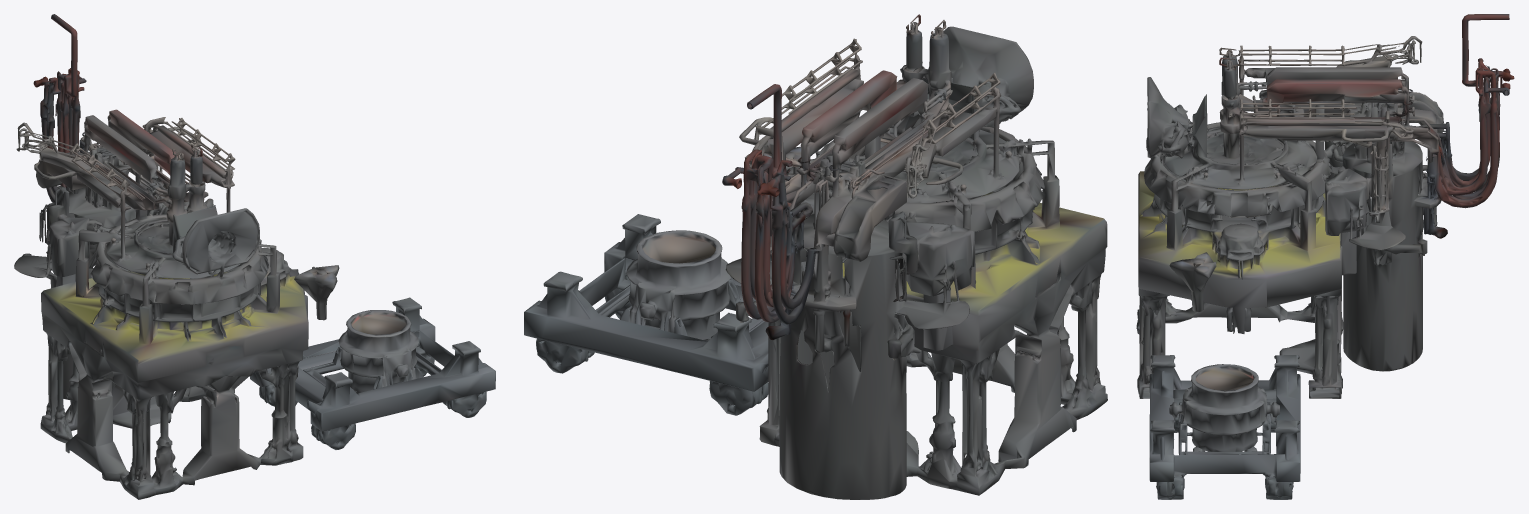
The model's file is eaf.glb.
3 views of the same model, side by side, from view 1: azimuth 30°, elevation 25°; view 2: azimuth 150°, elevation 25°; view 3: azimuth 270°, elevation 25° (orthographic). The views are drawn at different scales.
Bounding box in the file's own units: 0.995 × 0.8795 × 0.8433.
